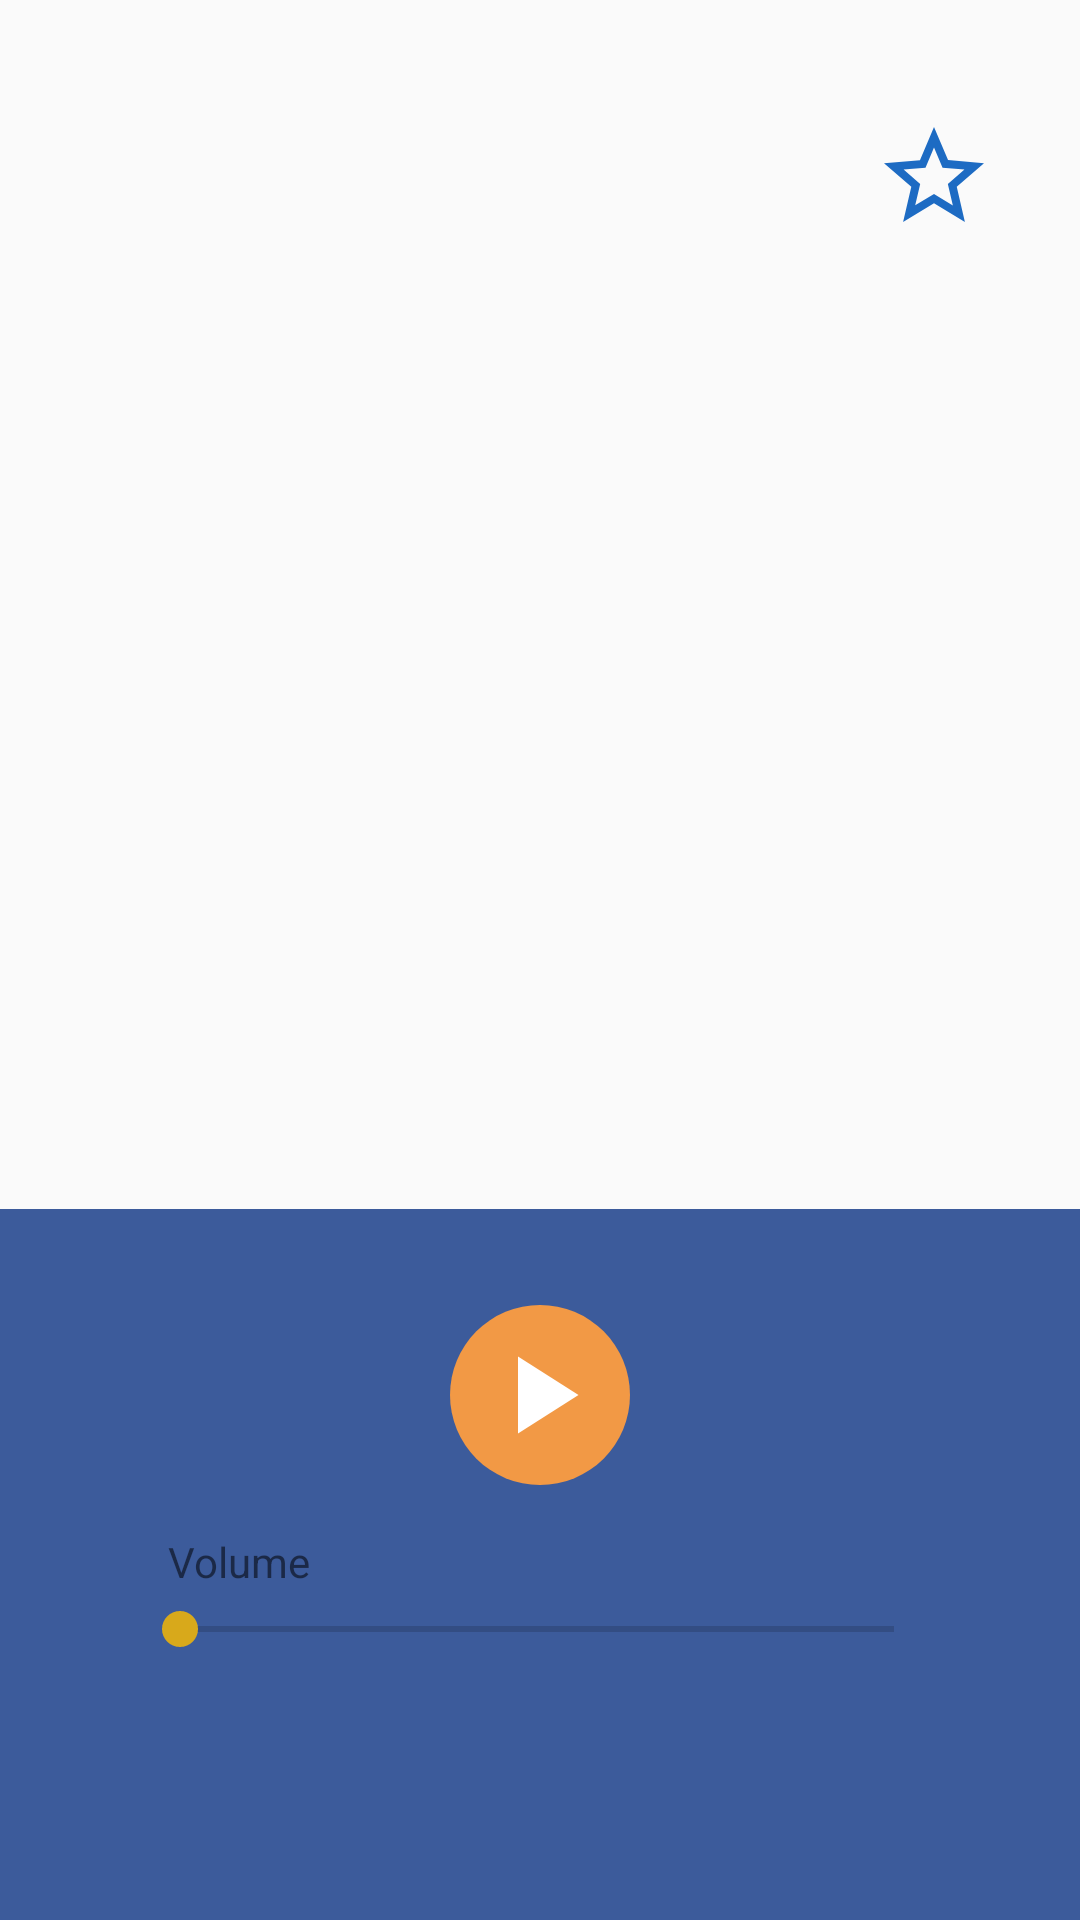

Locate icon controls on the screen. Image size 1080×1920, boxes as BBox(x1, y1, x2, y2).
play: BBox(450, 1305, 630, 1485)
star: BBox(884, 127, 984, 222)
